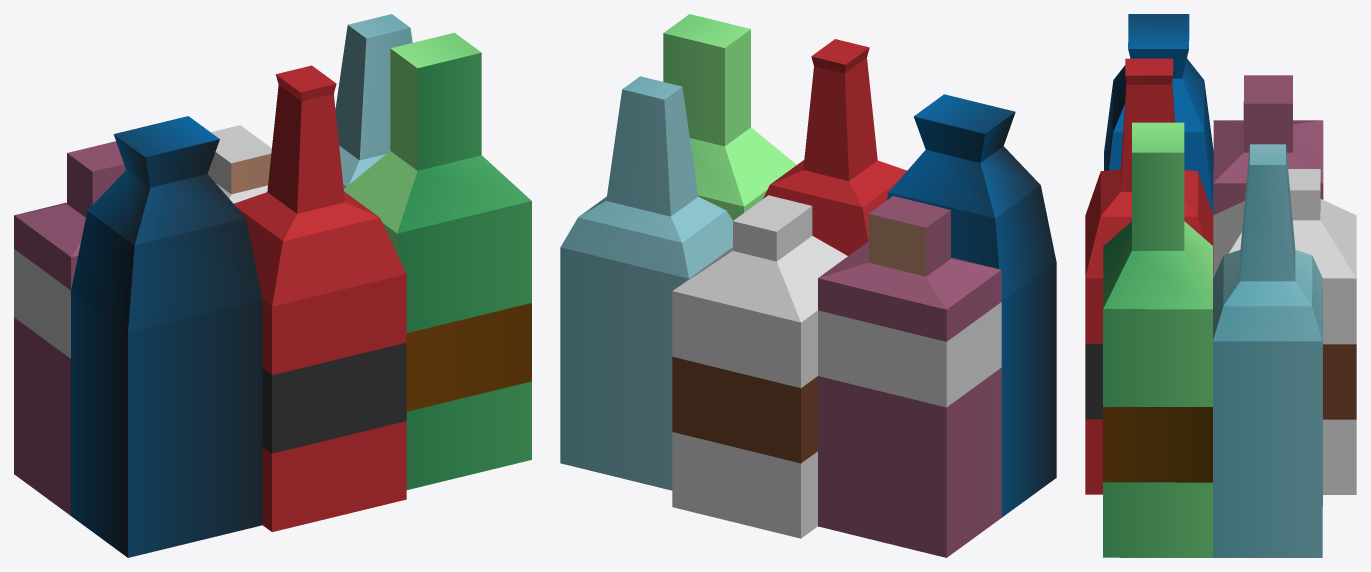
File: B01_Bouteille pack.fbx
The picture shows the model from 3 angles, left to right: view 1: azimuth 30°, elevation 25°; view 2: azimuth 150°, elevation 25°; view 3: azimuth 270°, elevation 25°; orthographic projection. The views are drawn at different scales.
Parts seen in each view (by area): view 1: B01_Bouteille pack; view 2: B01_Bouteille pack; view 3: B01_Bouteille pack.
Boxes of the visible parts, x1=… form: B01_Bouteille pack: x1=14, y1=14, x2=531, y2=557; B01_Bouteille pack: x1=560, y1=14, x2=1056, y2=557; B01_Bouteille pack: x1=1085, y1=14, x2=1356, y2=557.
Bounding box in the file's own units: 25.52 × 24.92 × 15.48.
